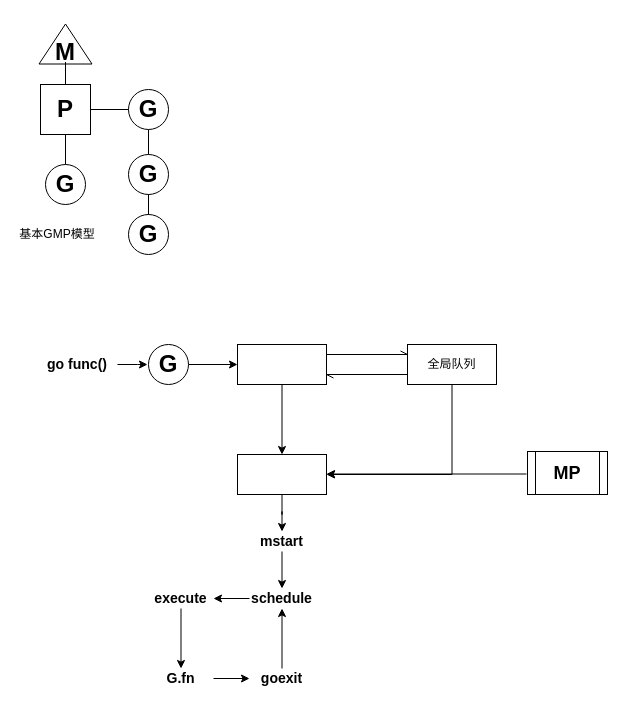
This 625x718 diagram has some shape labels left out. The box of each missing label's shape, as (x1, y1, x2, y2) in pixels:
协调到队列: (236, 344, 326, 384)
唤醒/创建M: (236, 454, 326, 494)
